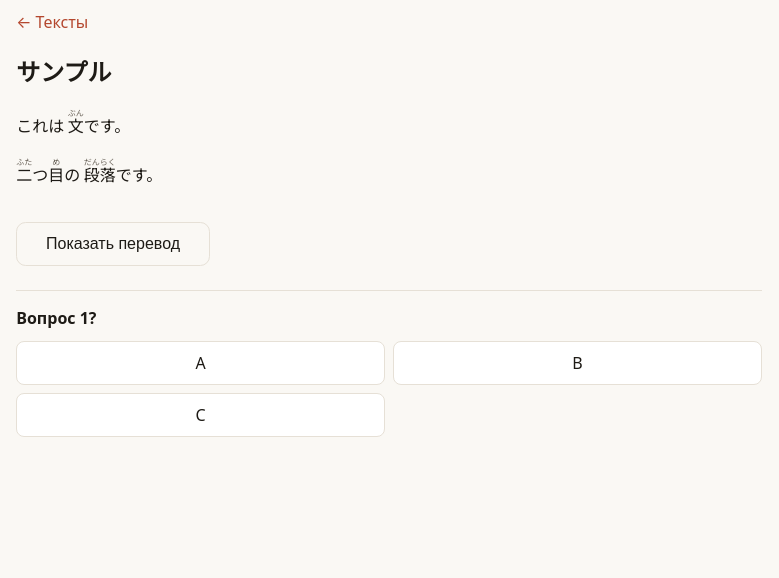
Test case: TextDetailScreen › walks through questions one at a time and marks the text as read on completion
The image size is (779, 578).
Expected: the text "Вопрос 1?" is shown, left=16, top=307, right=96, bottom=329
Click the button "B" at (577, 363), box left=393, top=341, right=762, bottom=385
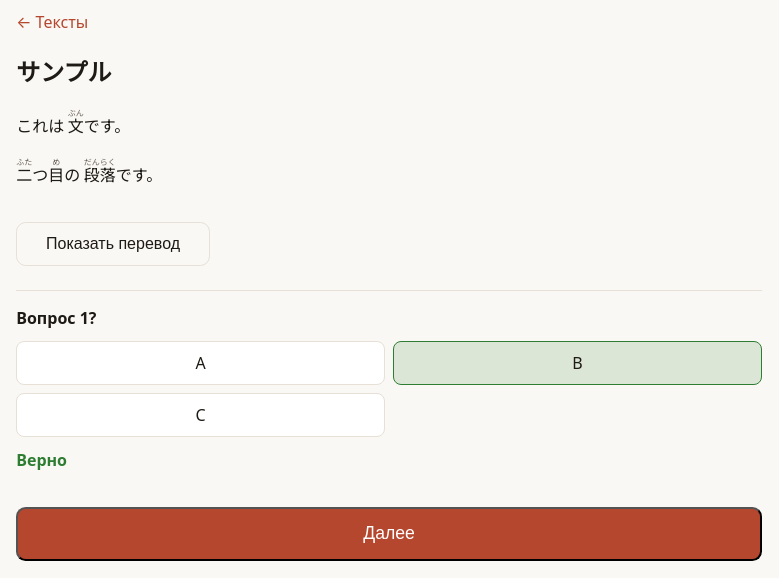
Click the button "Далее" at (389, 534), box left=16, top=507, right=762, bottom=561
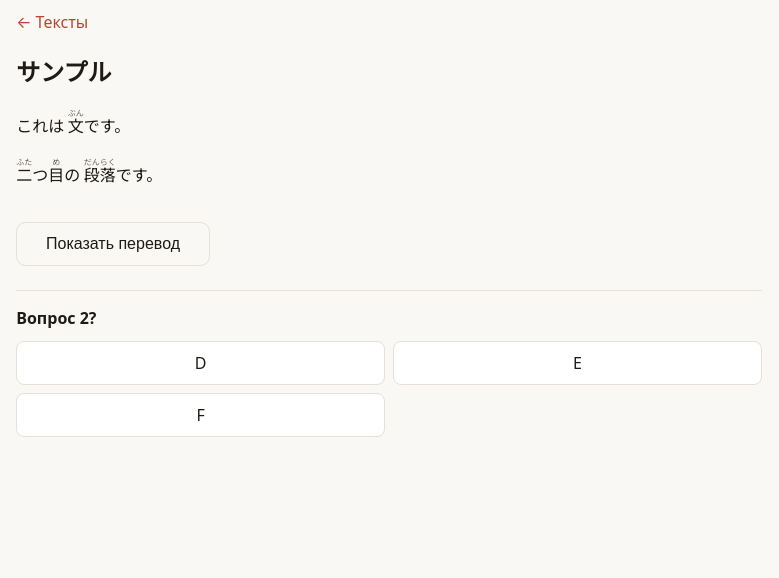
Expected: the text "Вопрос 2?" is shown, left=16, top=307, right=96, bottom=329
Click the button "D" at (201, 363), box left=16, top=341, right=385, bottom=385
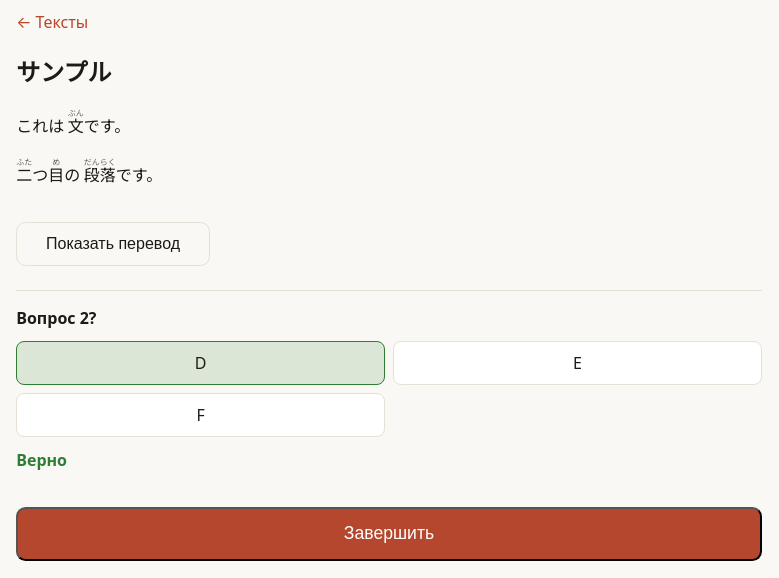
Click the button "Завершить" at (389, 534), box left=16, top=507, right=762, bottom=561
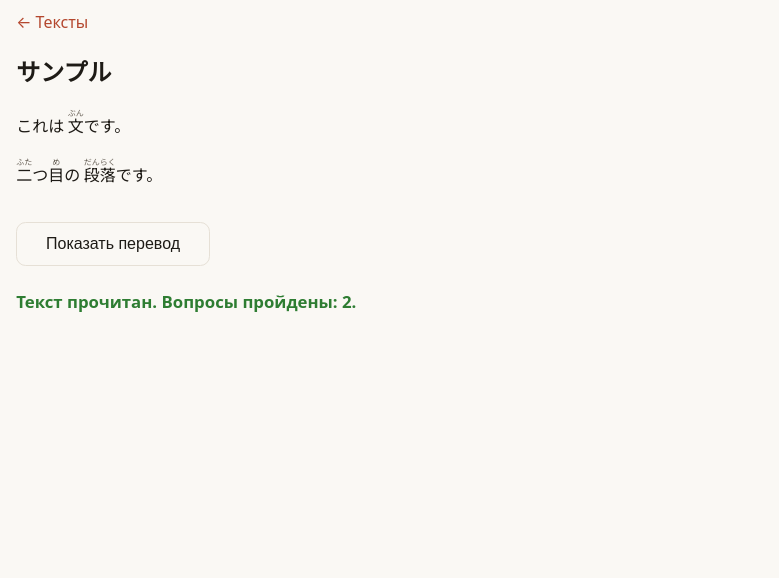
Expected: the text "Текст прочитан. Вопросы пройдены: 2." is shown, left=16, top=290, right=356, bottom=313
